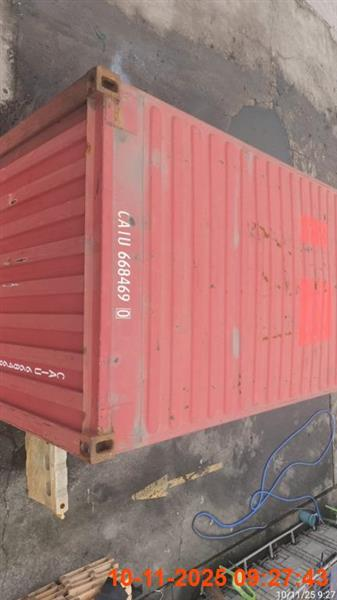hole: (0, 65, 335, 583)
